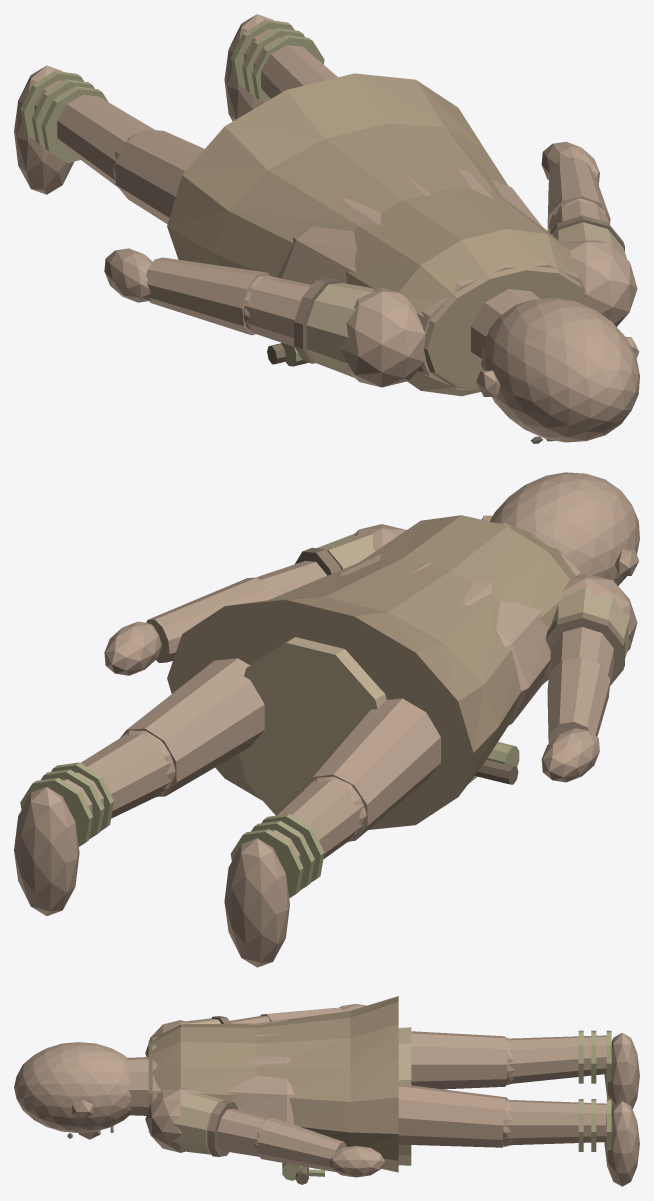
File: woman_slender__cultivator.glb
The picture shows the model from 3 angles, top to bottom: view 1: azimuth 30°, elevation 25°; view 2: azimuth 150°, elevation 25°; view 3: azimuth 270°, elevation 25°; orthographic projection. The views are drawn at different scales.
Visible parts, largest first — view 1: part_037, part_016, part_023, part_014, part_026, part_000, part_002, part_030, part_028, part_024, part_003, part_009 (+14 smaller); view 2: part_037, part_038, part_016, part_007, part_000, part_010, part_003, part_009, part_014, part_026, part_002, part_033 (+15 smaller); view 3: part_037, part_016, part_007, part_000, part_009, part_002, part_033, part_014, part_010, part_003, part_030, part_035 (+14 smaller).
Part boxes in pixels (left/top/right/bottom): part_037: left=167, top=73, right=588, bottom=396; part_016: left=481, top=297, right=639, bottom=442; part_023: left=338, top=288, right=425, bottom=387; part_014: left=277, top=168, right=586, bottom=390; part_026: left=146, top=257, right=270, bottom=335; part_000: left=115, top=129, right=204, bottom=224; part_002: left=34, top=80, right=155, bottom=187; part_030: left=562, top=240, right=637, bottom=326; part_028: left=306, top=283, right=374, bottom=377; part_024: left=244, top=276, right=311, bottom=346; part_003: left=14, top=65, right=73, bottom=194; part_009: left=244, top=29, right=337, bottom=98; part_037: left=167, top=515, right=575, bottom=829; part_038: left=239, top=637, right=386, bottom=815; part_016: left=490, top=472, right=639, bottom=585; part_007: left=120, top=658, right=264, bottom=796; part_000: left=300, top=698, right=440, bottom=841; part_010: left=14, top=787, right=79, bottom=915; part_003: left=224, top=838, right=289, bottom=967; part_009: left=62, top=733, right=173, bottom=818; part_014: left=338, top=523, right=581, bottom=724; part_026: left=547, top=656, right=610, bottom=743; part_002: left=271, top=779, right=363, bottom=860; part_033: left=146, top=577, right=272, bottom=662; part_037: left=148, top=996, right=398, bottom=1172; part_016: left=14, top=1042, right=131, bottom=1132; part_007: left=398, top=1084, right=507, bottom=1147; part_000: left=411, top=1031, right=507, bottom=1089; part_009: left=503, top=1100, right=606, bottom=1145; part_002: left=507, top=1035, right=606, bottom=1083; part_033: left=257, top=1117, right=346, bottom=1171; part_014: left=152, top=1020, right=294, bottom=1124; part_010: left=604, top=1101, right=639, bottom=1186; part_003: left=604, top=1033, right=639, bottom=1109; part_030: left=145, top=1087, right=199, bottom=1152; part_035: left=173, top=1092, right=224, bottom=1154.
Size of the model in its own units: 1.5 by 0.6525 by 2.56.
